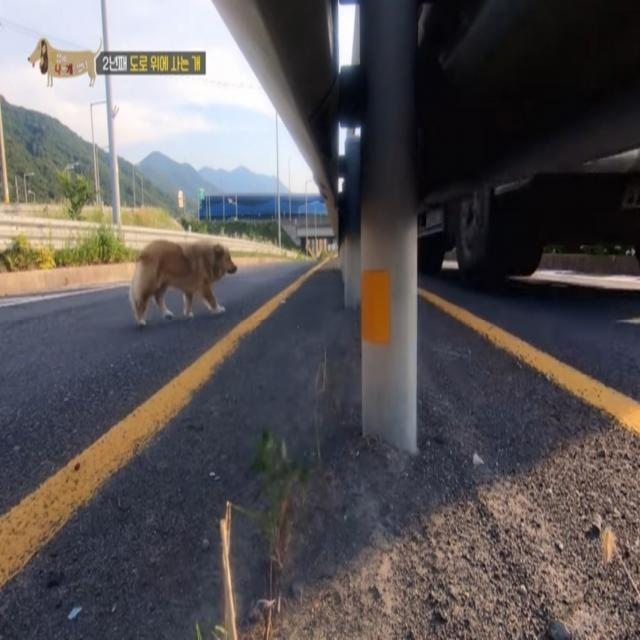dog: (110, 224, 262, 336)
